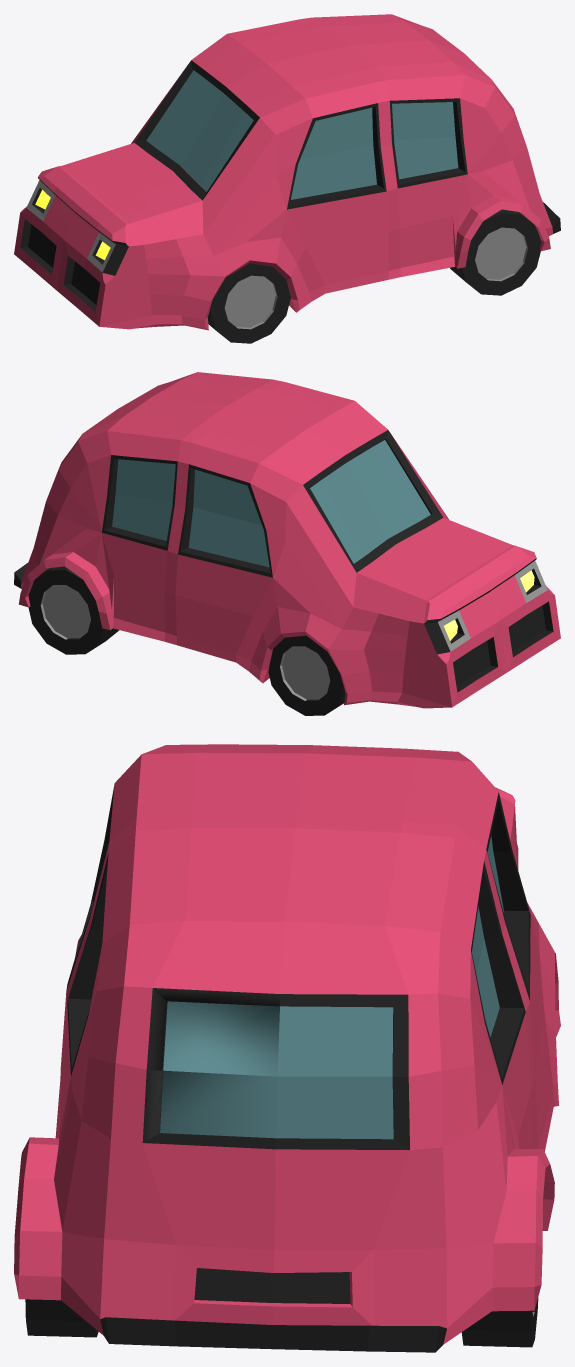
The model's file is CARFIX.fbx.
The picture shows the model from 3 angles, top to bottom: view 1: azimuth 30°, elevation 25°; view 2: azimuth 150°, elevation 25°; view 3: azimuth 270°, elevation 25°; orthographic projection. The views are drawn at different scales.
Visible parts, largest first — view 1: broombroom#; view 2: broombroom#; view 3: broombroom#.
Part boxes in pixels (<box>): broombroom#: <box>14,14,560,343</box>; broombroom#: <box>14,372,560,715</box>; broombroom#: <box>14,744,560,1352</box>.
Size of the model in its own units: 2278 by 1942 by 4253.
